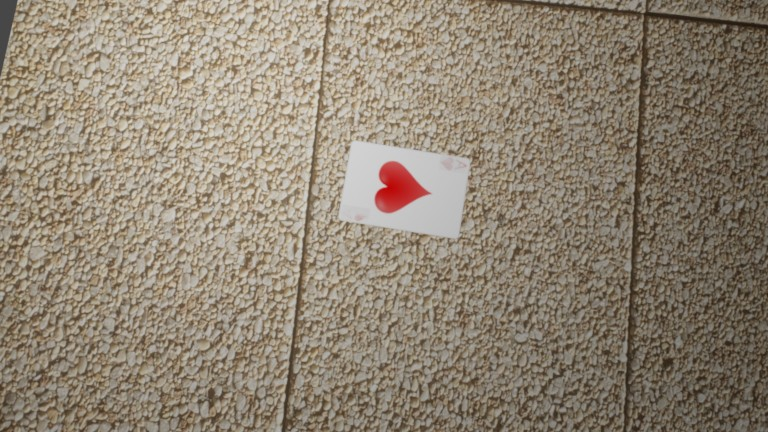ace_of_hearts: (340, 204, 370, 223), (439, 155, 469, 174)
